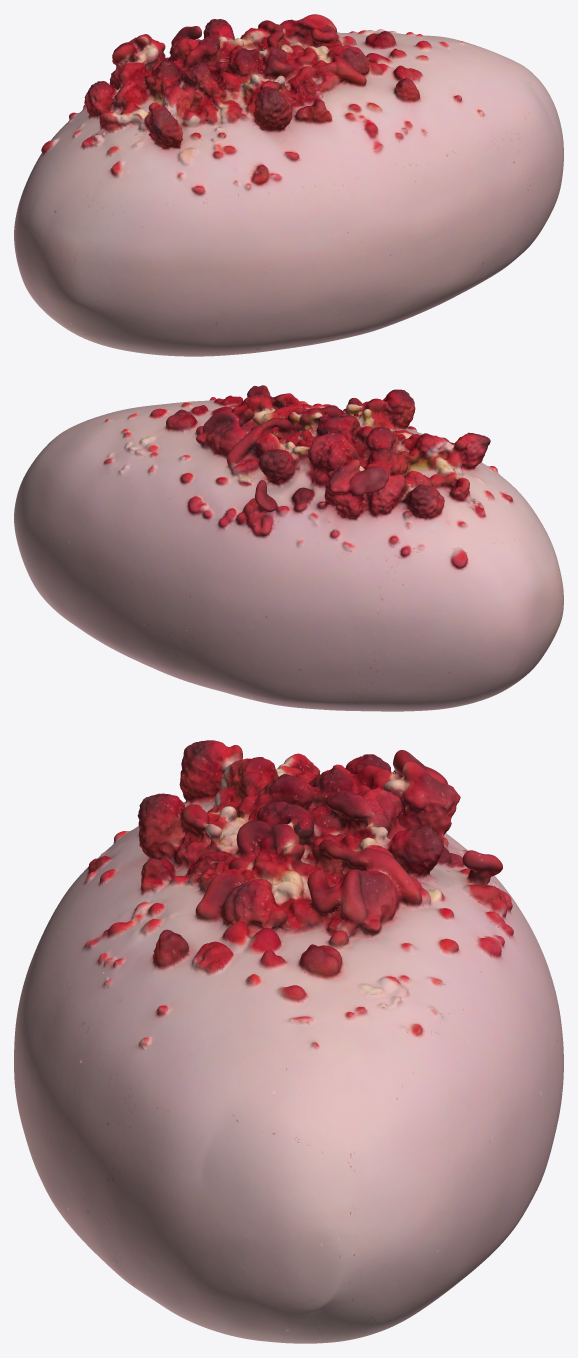
The model's file is passion-berry.glb.
3 renders of one model, top to bottom at view 1: azimuth 30°, elevation 25°; view 2: azimuth 150°, elevation 25°; view 3: azimuth 270°, elevation 25°, orthographic. The views are drawn at different scales.
Bounding box in the file's own units: 2 × 0.93 × 1.24.
1 material, 1 textured.
